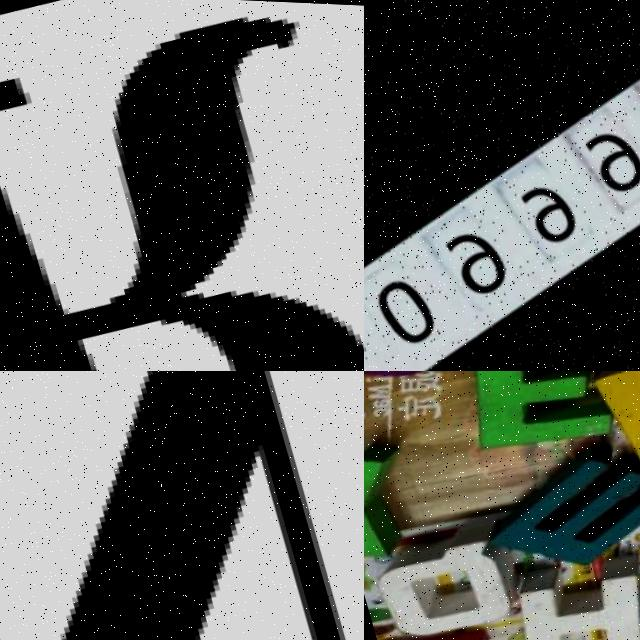0: (364, 250, 457, 371)
9: (418, 198, 532, 331), (494, 155, 596, 274), (558, 96, 640, 226)
F: (456, 371, 618, 462)
H: (505, 545, 640, 640)
M: (492, 423, 640, 588)
N: (0, 371, 364, 640)
Q: (370, 508, 525, 640)
R: (0, 0, 364, 371)
Y: (364, 437, 425, 566)
